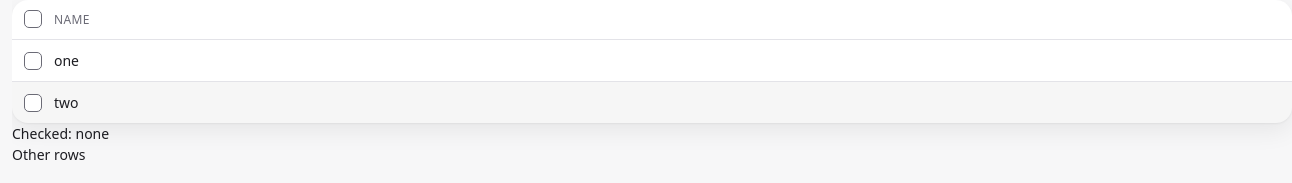
Test case: Table › empties the selection when the rows change
Click the checkbox named "Select all". click: (33, 19)
box: x1=24 y1=10 x2=42 y2=28
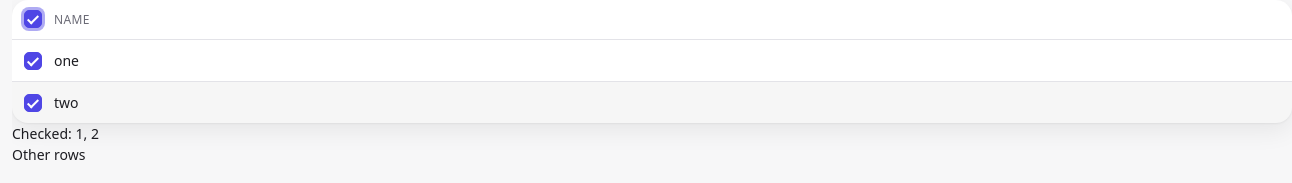
Result: the text "Checked: 1, 2" is shown at x1=12 y1=124 x2=99 y2=143
Click the button "Other rows". click: (49, 154)
box: x1=12 y1=144 x2=85 y2=165
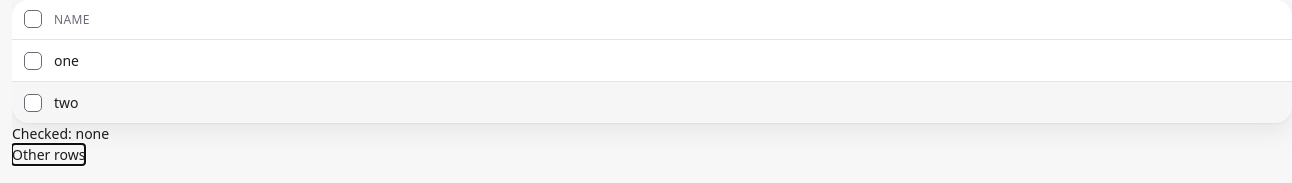
Result: the text "Checked: none" is shown at x1=12 y1=124 x2=109 y2=143
